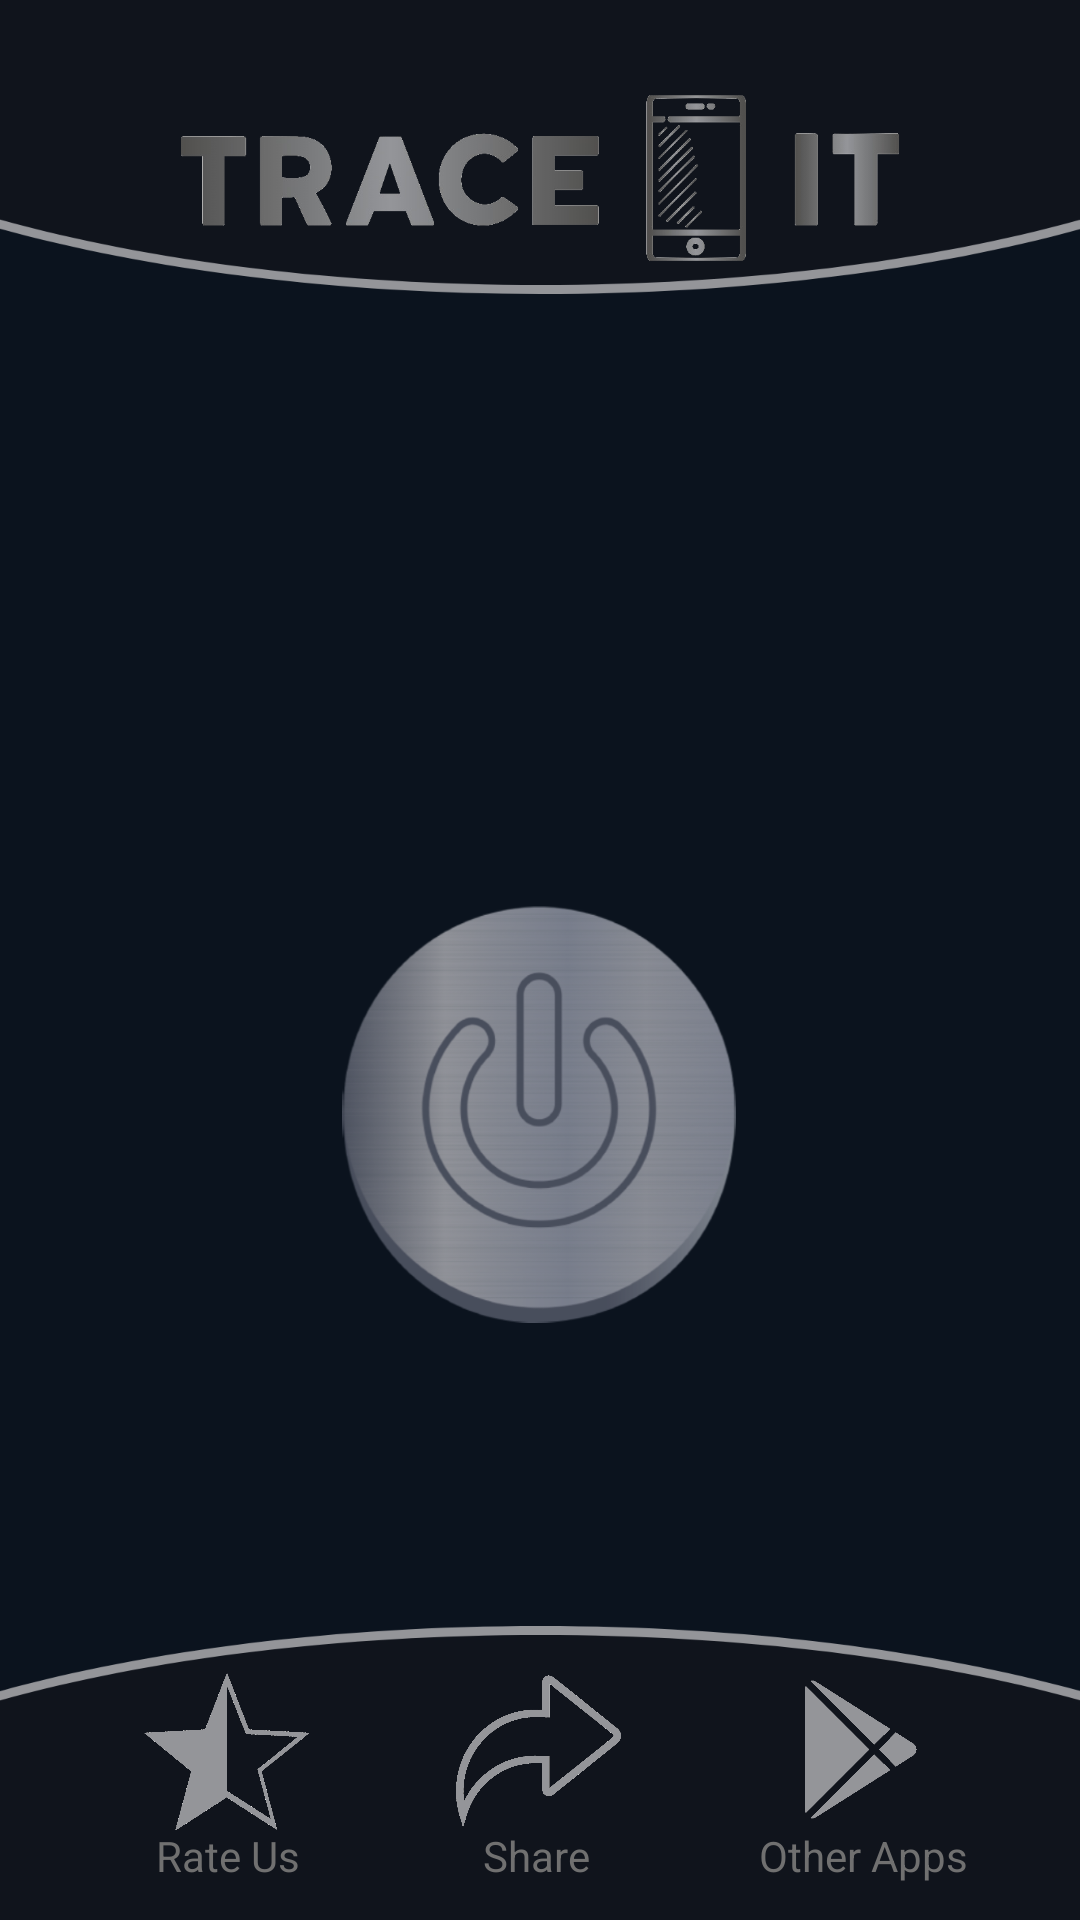

Icon click points for this 1080x1920 phone screenshot, format (x,y):
starbtn: (226,1751)
